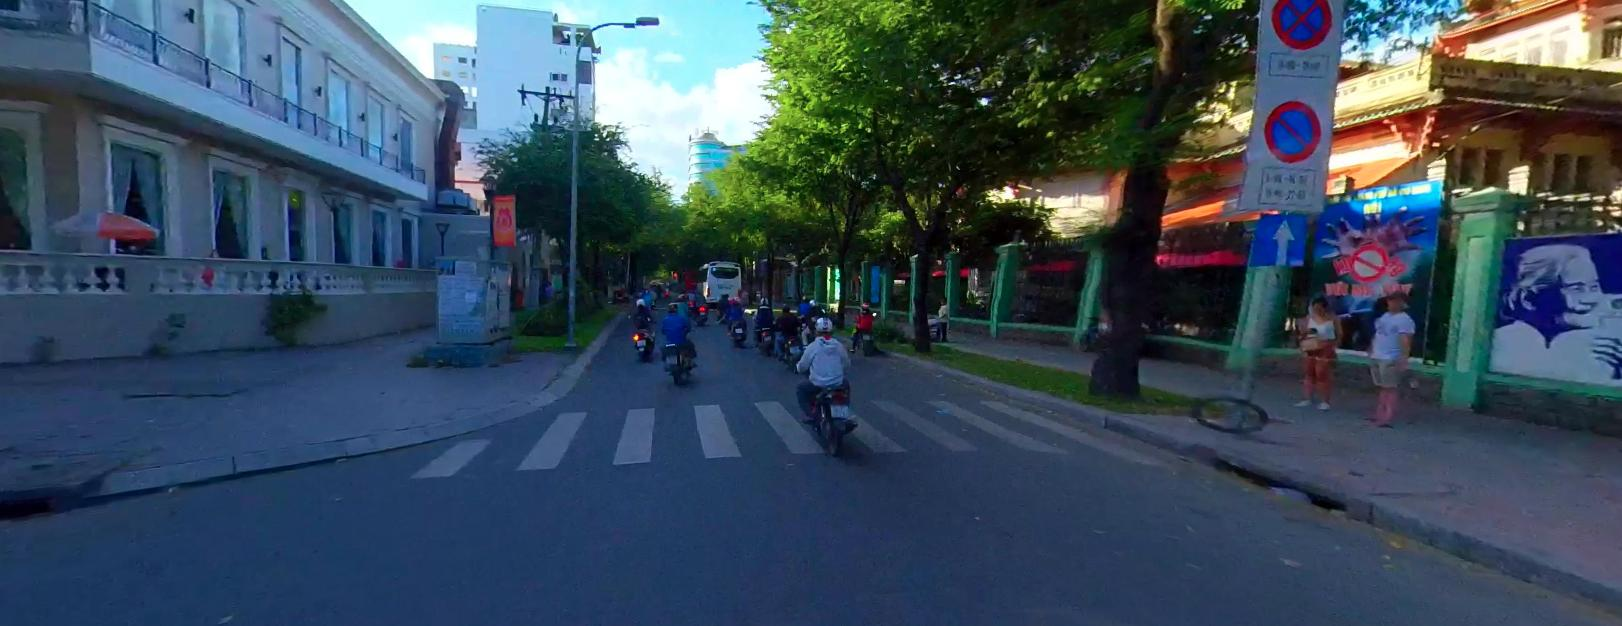Cam dung va do: (1263, 97, 1321, 161), (1271, 0, 1332, 50)
